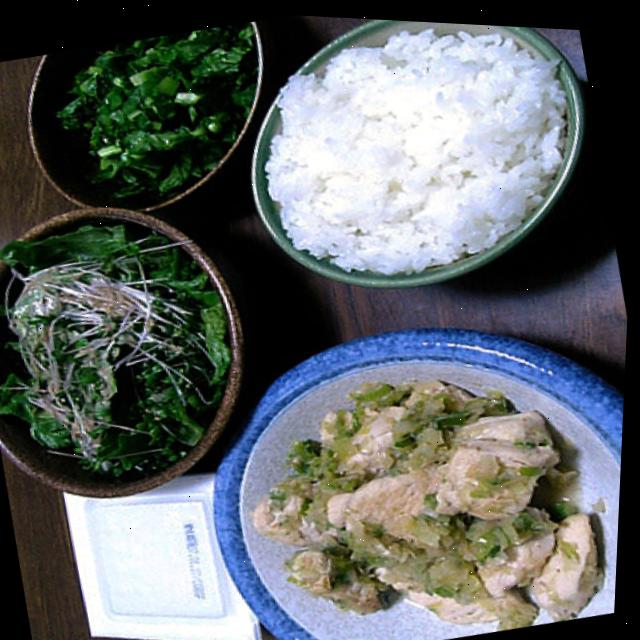米饭主食: (193, 8, 627, 328)
